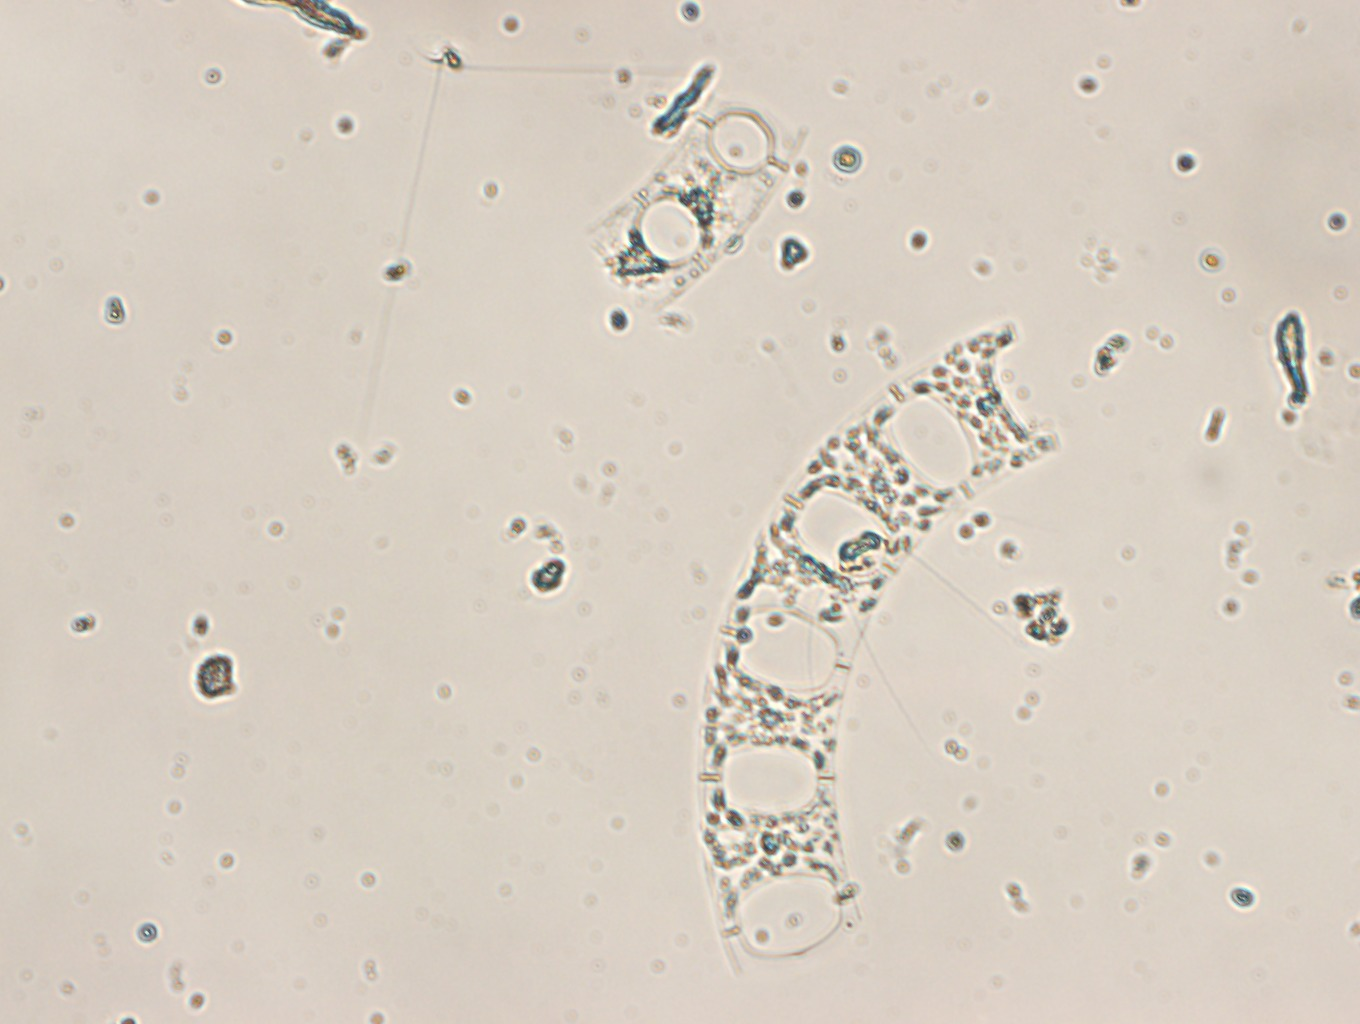eucampia: (696, 322, 1064, 965), (584, 93, 808, 312)
